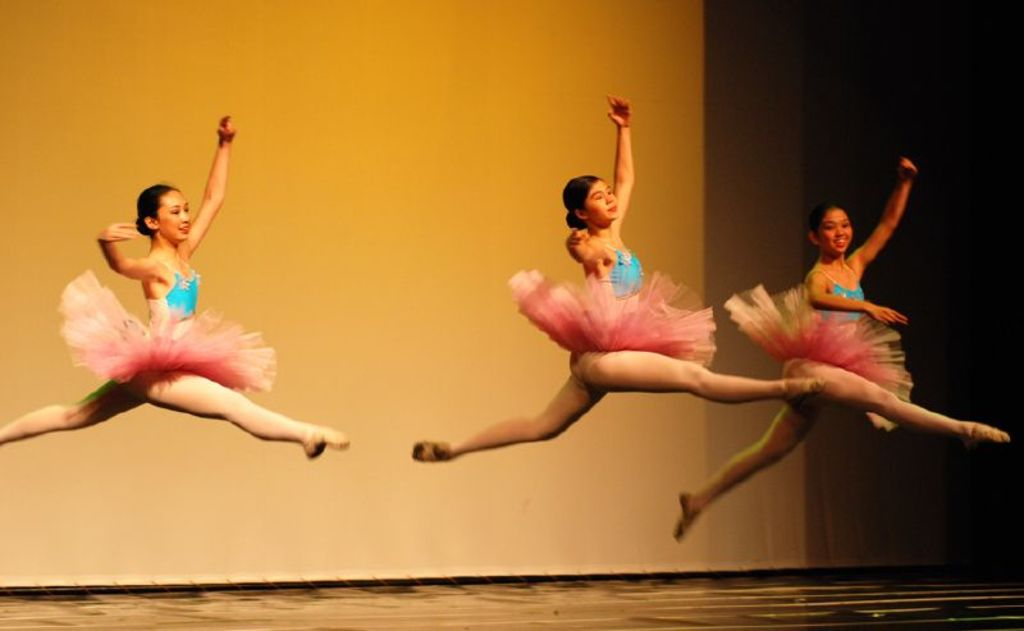face: (154, 191, 195, 238)
